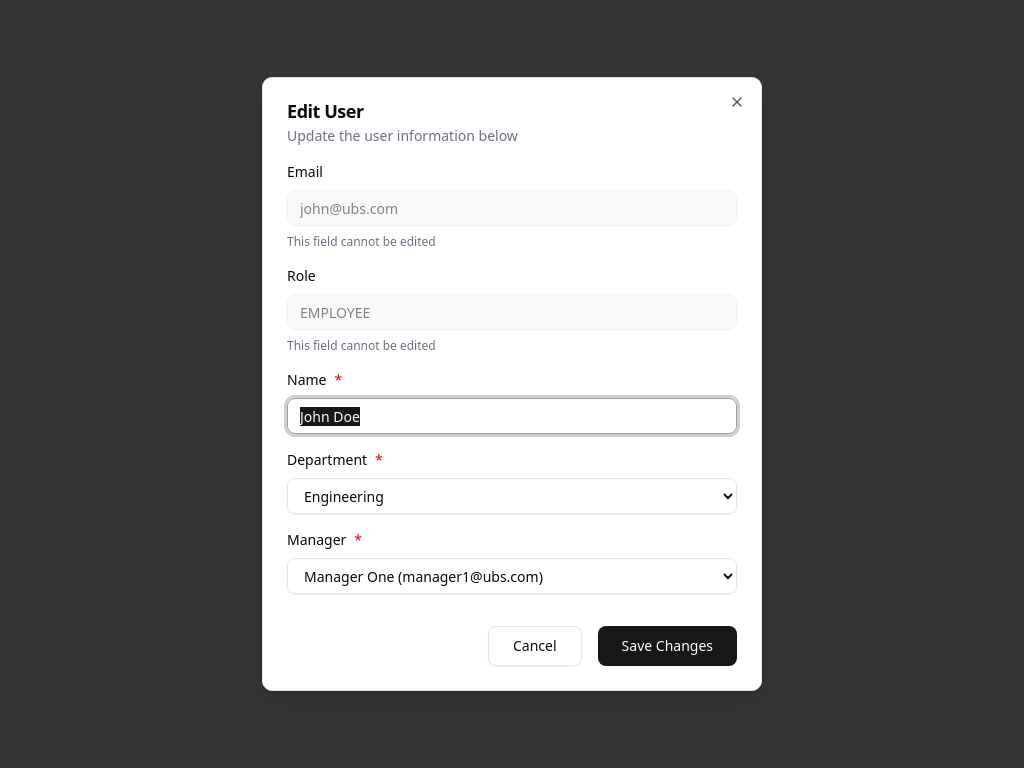
Test: EditUserDialog › disables Save Changes button when name is empty
This screenshot has width=1024, height=768.
Clear the field labelled "Name *" at (512, 416), box [287,398,737,434]
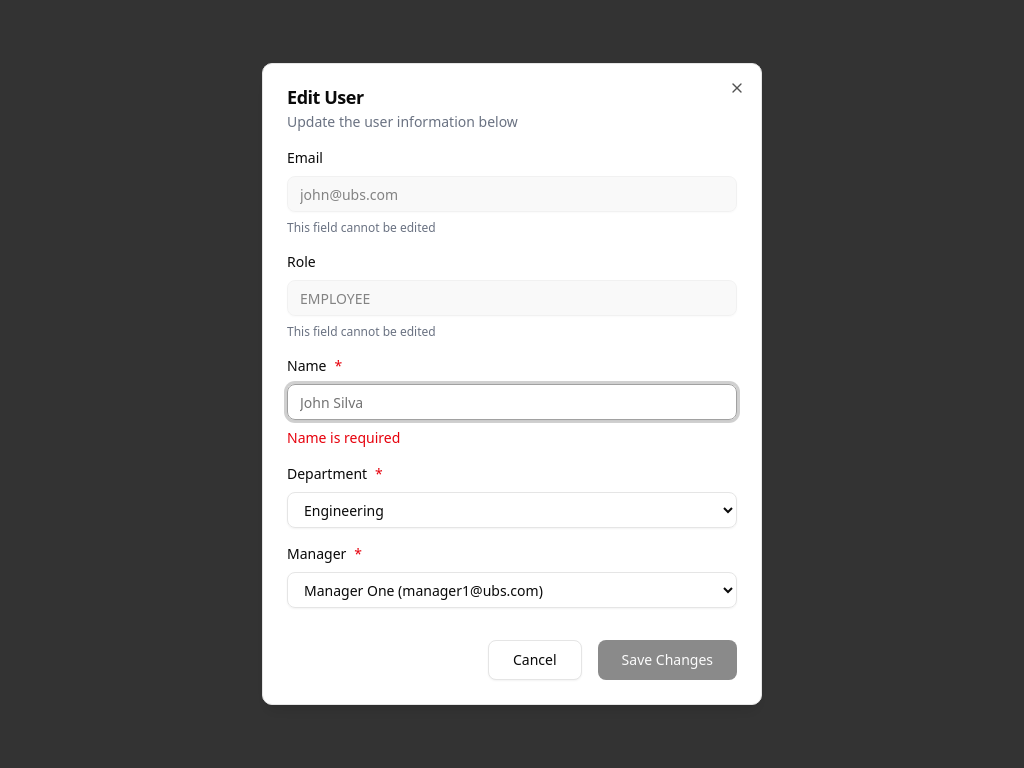
Expected: the button "Save Changes" is disabled, [598,640,737,680]
